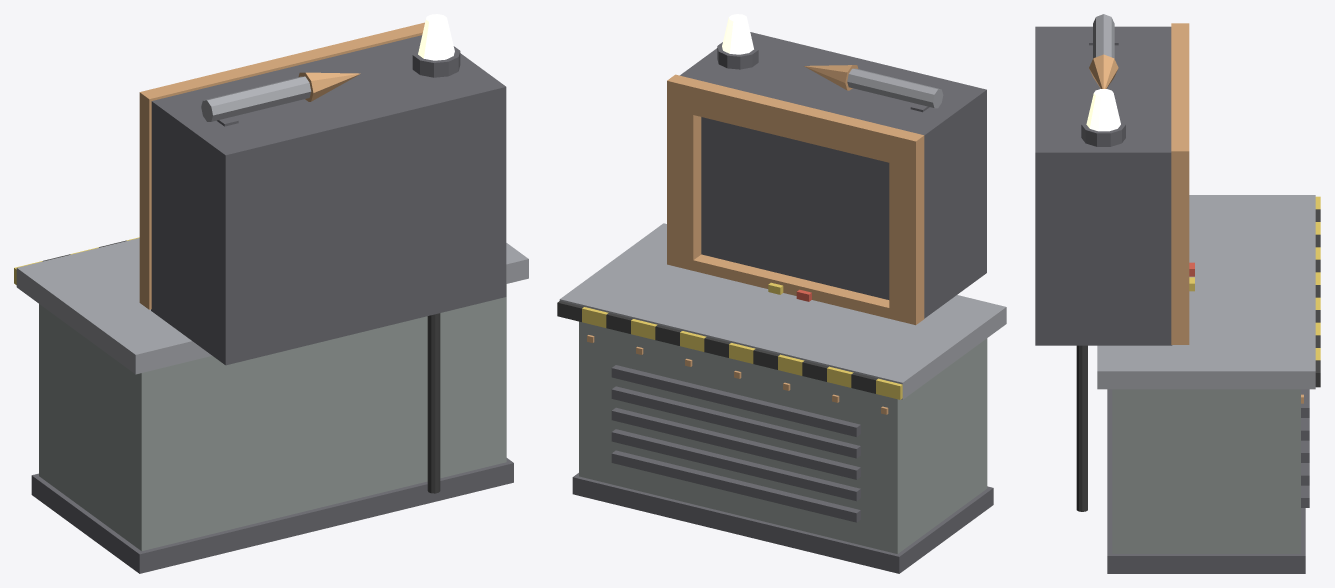
File: drill_desk.glb
3 renders of one model, left to right at view 1: azimuth 30°, elevation 25°; view 2: azimuth 150°, elevation 25°; view 3: azimuth 270°, elevation 25°, orthographic. The views are drawn at different scales.
Parts seen in each view (by area): view 1: DrillDesk; view 2: DrillDesk; view 3: DrillDesk.
Boxes of the visible parts, box(x1,y1,x2,y2) form: DrillDesk: box(14, 14, 528, 573); DrillDesk: box(557, 14, 1006, 573); DrillDesk: box(1035, 14, 1320, 573).
Bounding box in the file's own units: 0.84 × 0.99 × 0.575.
